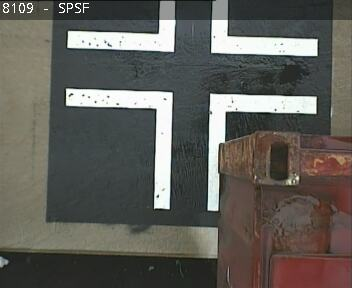groundmarker_1: (65, 85, 316, 211)
